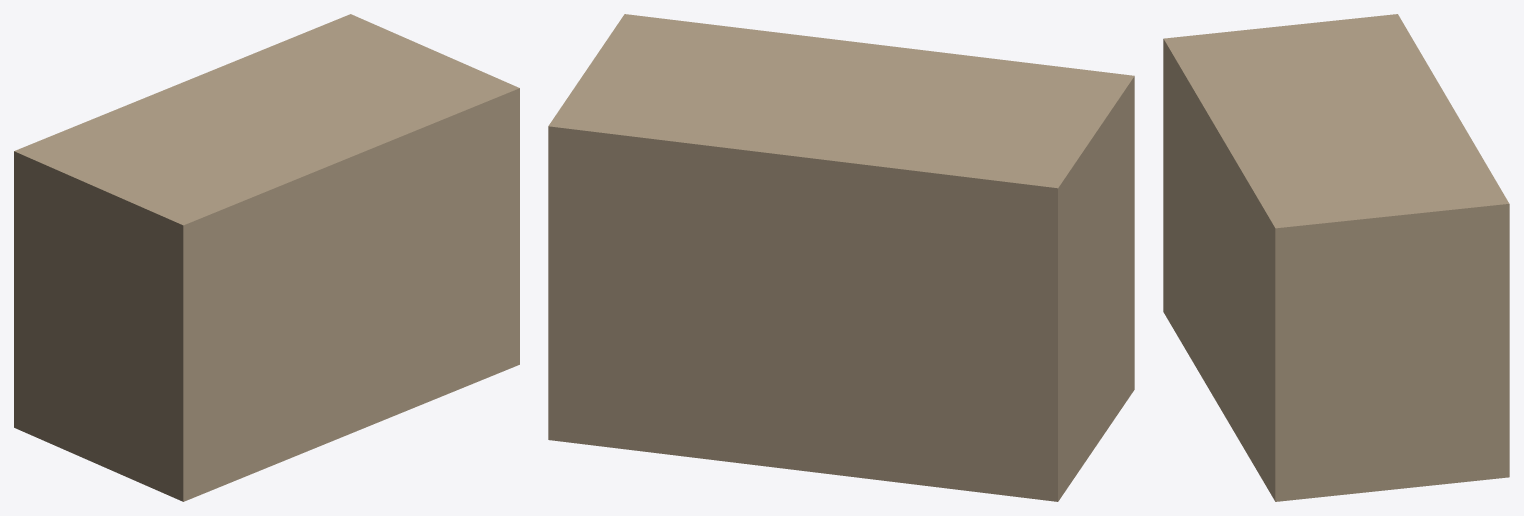
Rendered from bld_107716040.dae.
The picture shows the model from 3 angles, left to right: view 1: azimuth 30°, elevation 25°; view 2: azimuth 150°, elevation 25°; view 3: azimuth 270°, elevation 25°; orthographic projection. The views are drawn at different scales.
Parts seen in each view (by area): view 1: bld_107716040; view 2: bld_107716040; view 3: bld_107716040.
Boxes of the visible parts, <box> form: bld_107716040: <box>14,14,519,501</box>; bld_107716040: <box>548,14,1134,501</box>; bld_107716040: <box>1163,14,1509,501</box>.
Size of the model in its own units: 13.44 by 9.17 by 8.
